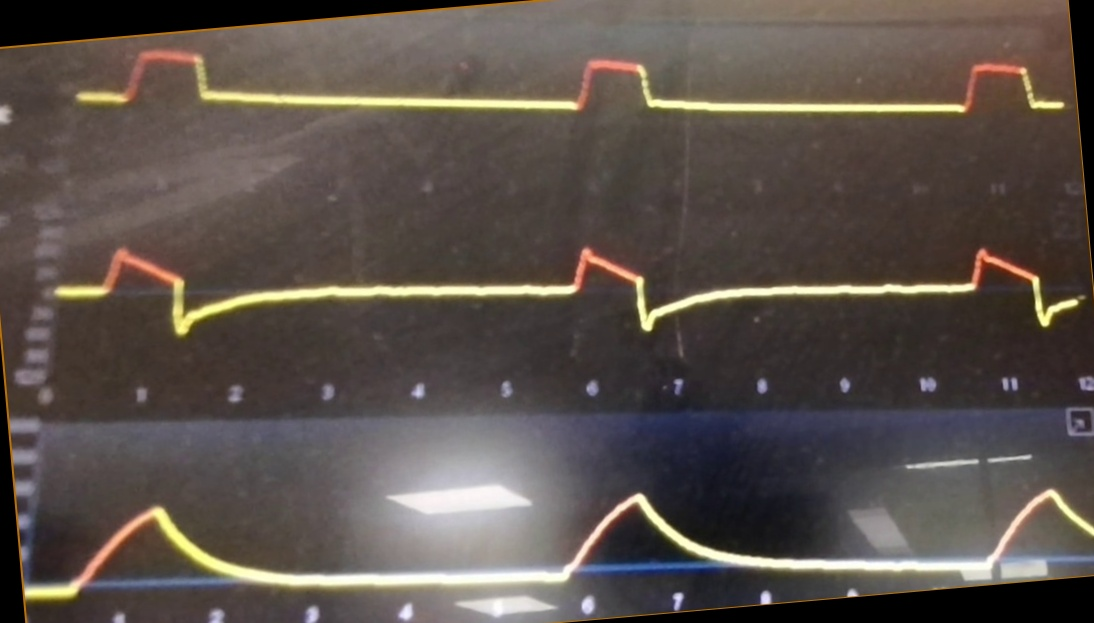Normal Flow: (54, 217, 1079, 357)
Normal Volume: (28, 462, 1094, 599)
